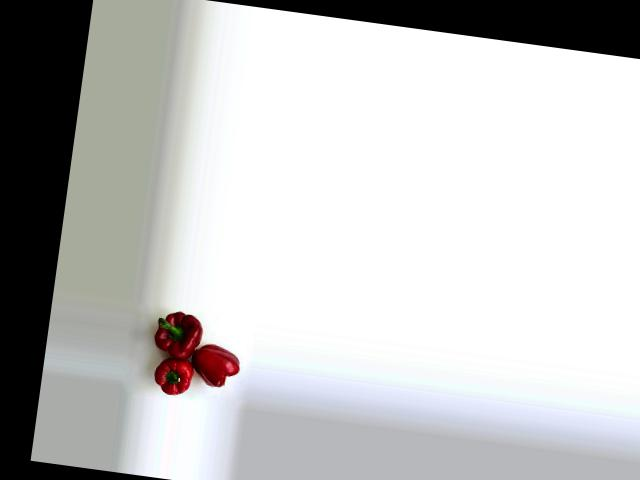bell_pepper: (186, 338, 248, 398)
